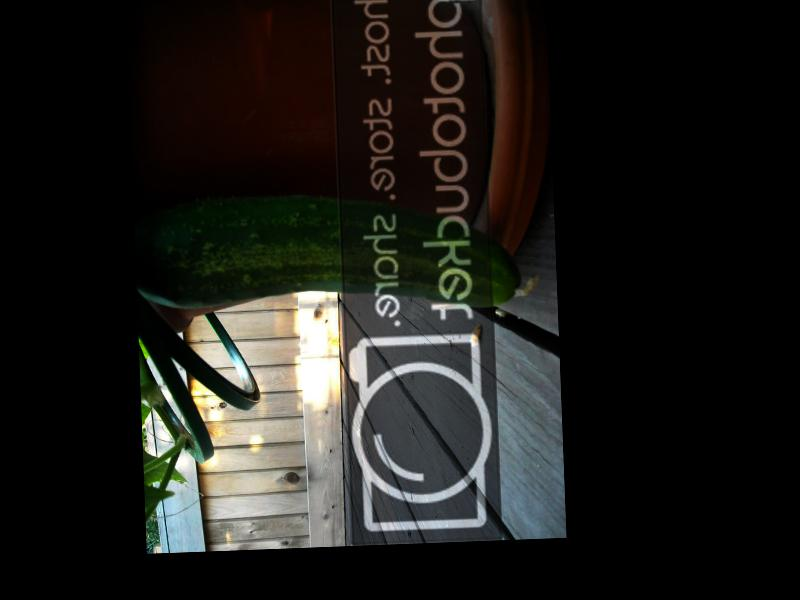Cucumber: (137, 185, 538, 320)
